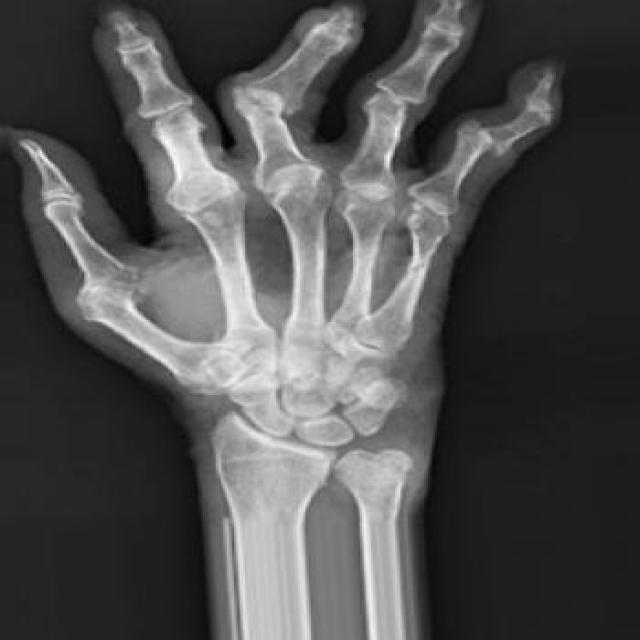Fracture: (224, 76, 312, 121), (461, 121, 514, 157)
